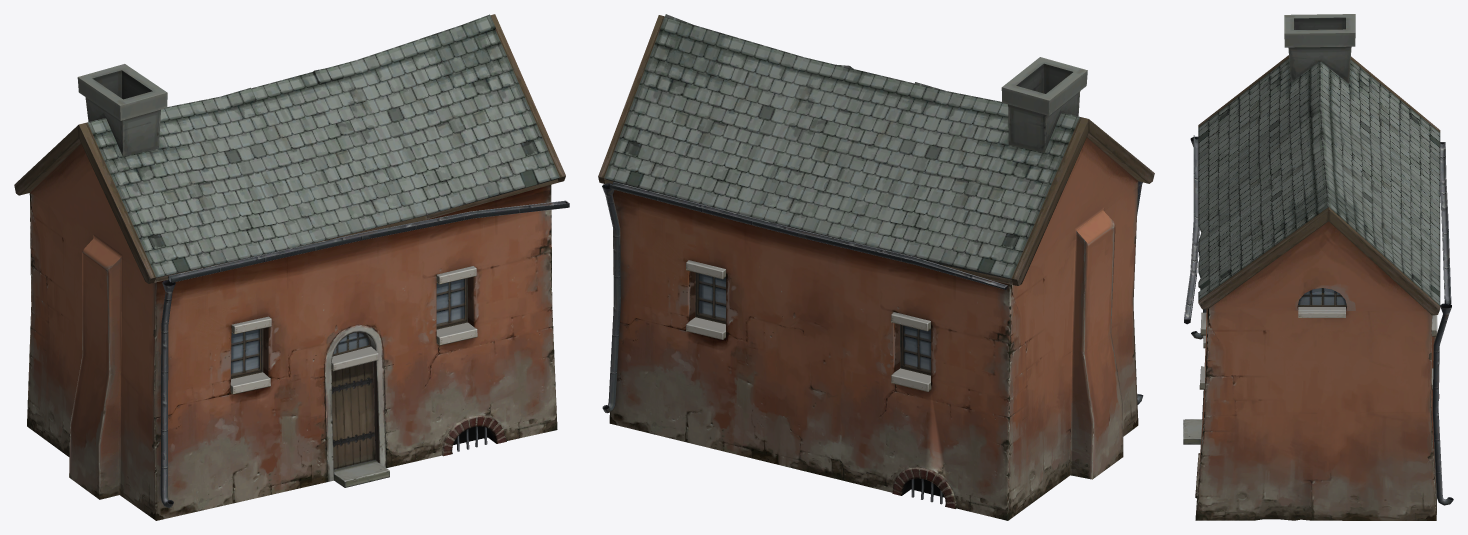
The model's file is townhousesmall3.fbx.
3 renders of one model, left to right at view 1: azimuth 30°, elevation 25°; view 2: azimuth 150°, elevation 25°; view 3: azimuth 270°, elevation 25°, orthographic. The views are drawn at different scales.
Visible parts, largest first — view 1: GEOM0_LOD0; view 2: GEOM0_LOD0; view 3: GEOM0_LOD0.
Boxes of the visible parts, x1,y1,x2,y2 form: GEOM0_LOD0: (14,14,569,520); GEOM0_LOD0: (598,14,1154,520); GEOM0_LOD0: (1183,14,1453,520).
Size of what is drawn, in the model's own units: 988 by 847 by 611.
